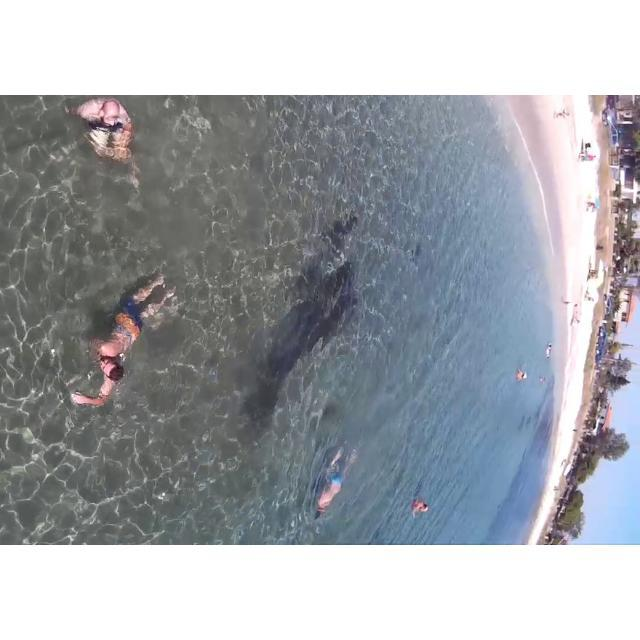human: (48, 267, 190, 411), (59, 95, 173, 191), (318, 445, 371, 517), (406, 484, 440, 518), (520, 358, 544, 395)
